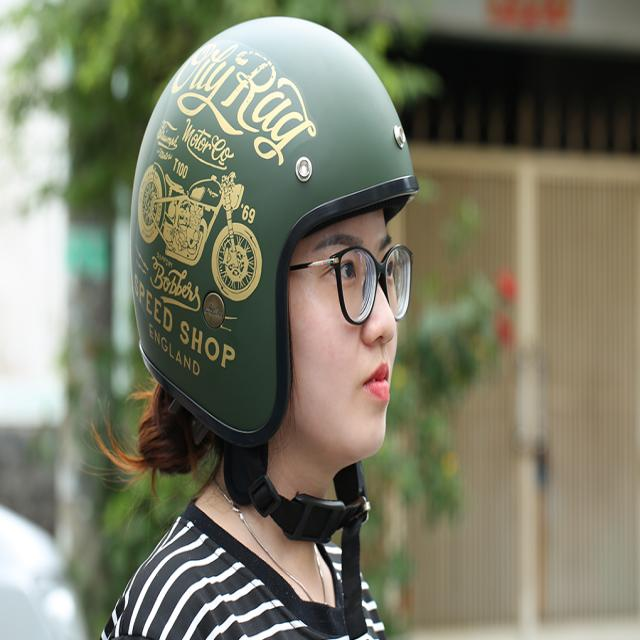3-4-helmet: (125, 7, 427, 451)
